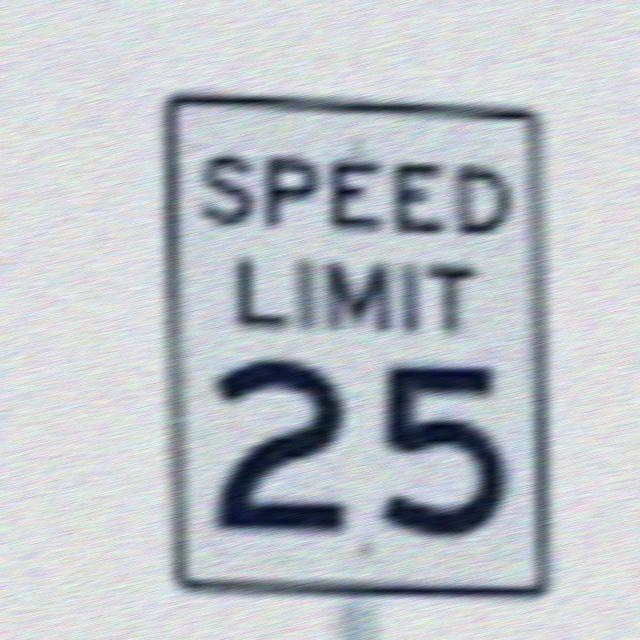speedLimit25: (149, 87, 556, 604)
